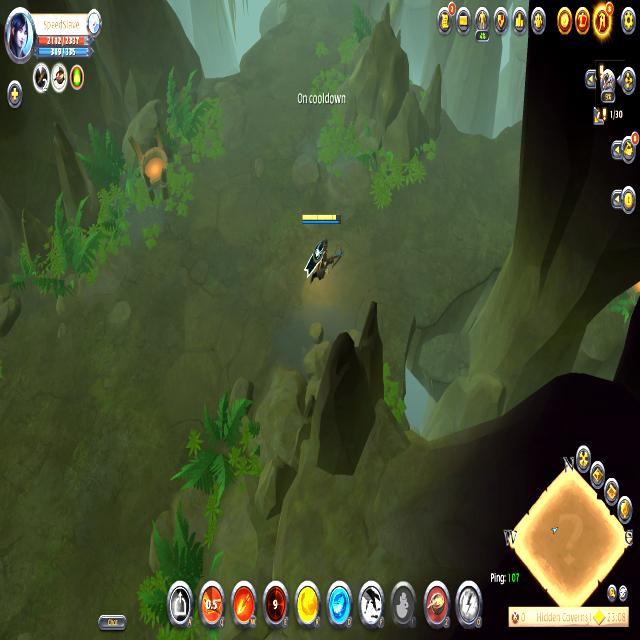red: (294, 210, 343, 286)
